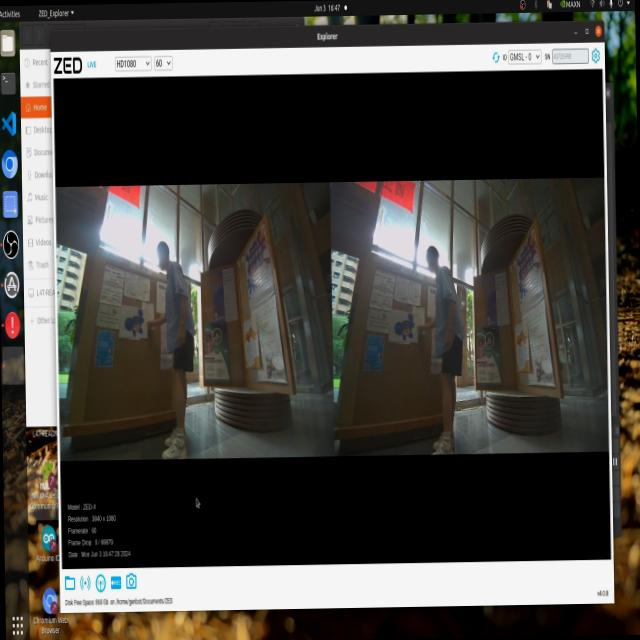blue: (385, 301, 422, 348), (118, 312, 151, 342)
